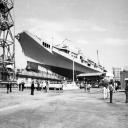Portanaves: (16, 28, 115, 77)
